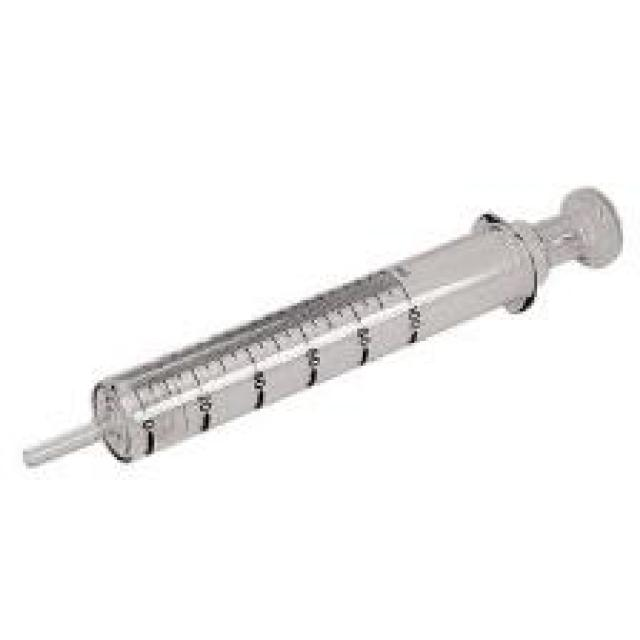syringe: (17, 177, 634, 514)
